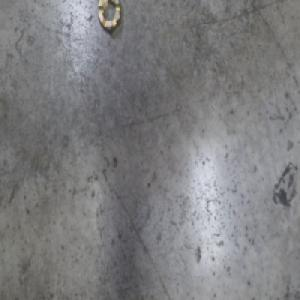Nut: (96, 0, 122, 35)
